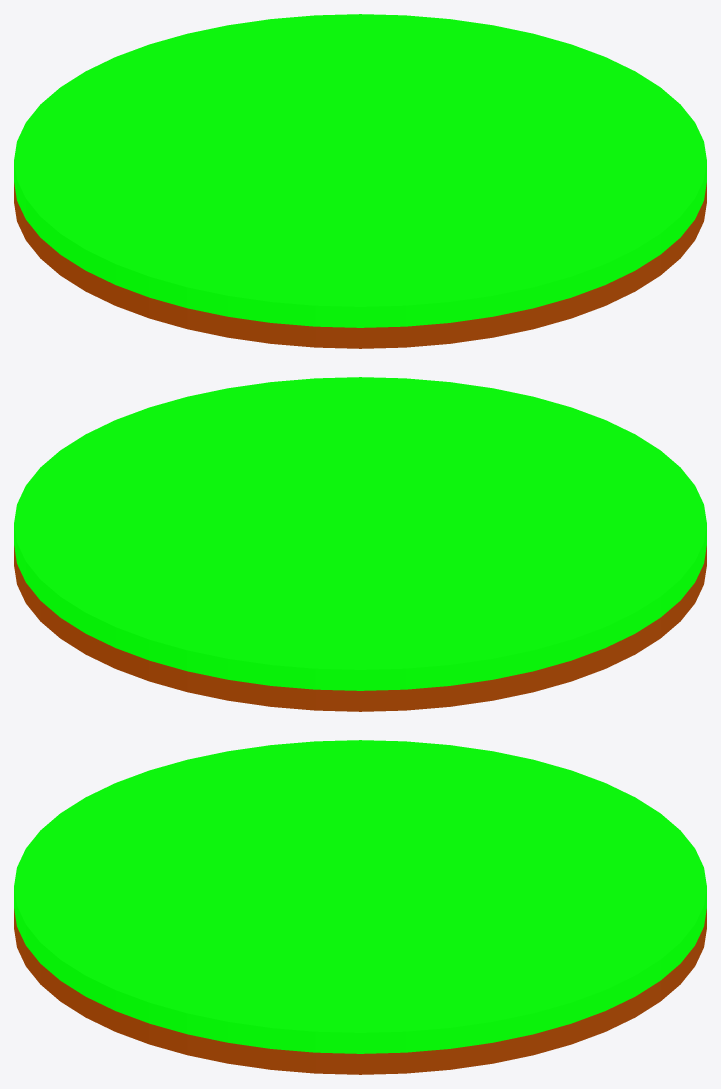
Rendered from Ground.fbx.
3 views of the same model, one above another, from view 1: azimuth 30°, elevation 25°; view 2: azimuth 150°, elevation 25°; view 3: azimuth 270°, elevation 25° (orthographic).
Parts seen in each view (by area): view 1: Ground; view 2: Ground; view 3: Ground.
Boxes of the visible parts, left/top/right/bottom form: Ground: left=14, top=14, right=706, bottom=348; Ground: left=14, top=377, right=706, bottom=711; Ground: left=14, top=740, right=706, bottom=1074.
Bounding box in the file's own units: 60 × 60 × 4.
